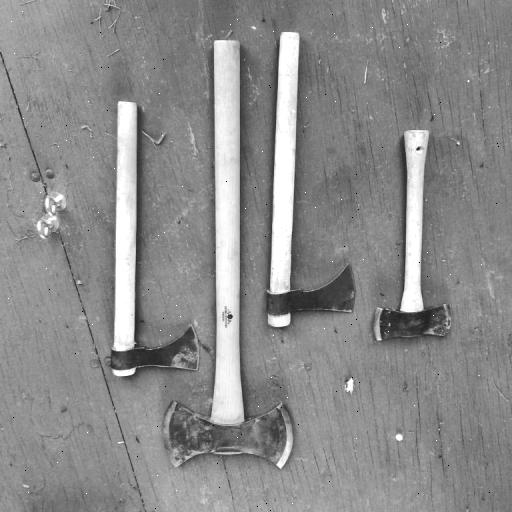Axe: (168, 42, 295, 470), (266, 34, 354, 326), (116, 100, 200, 376), (372, 132, 454, 343)
